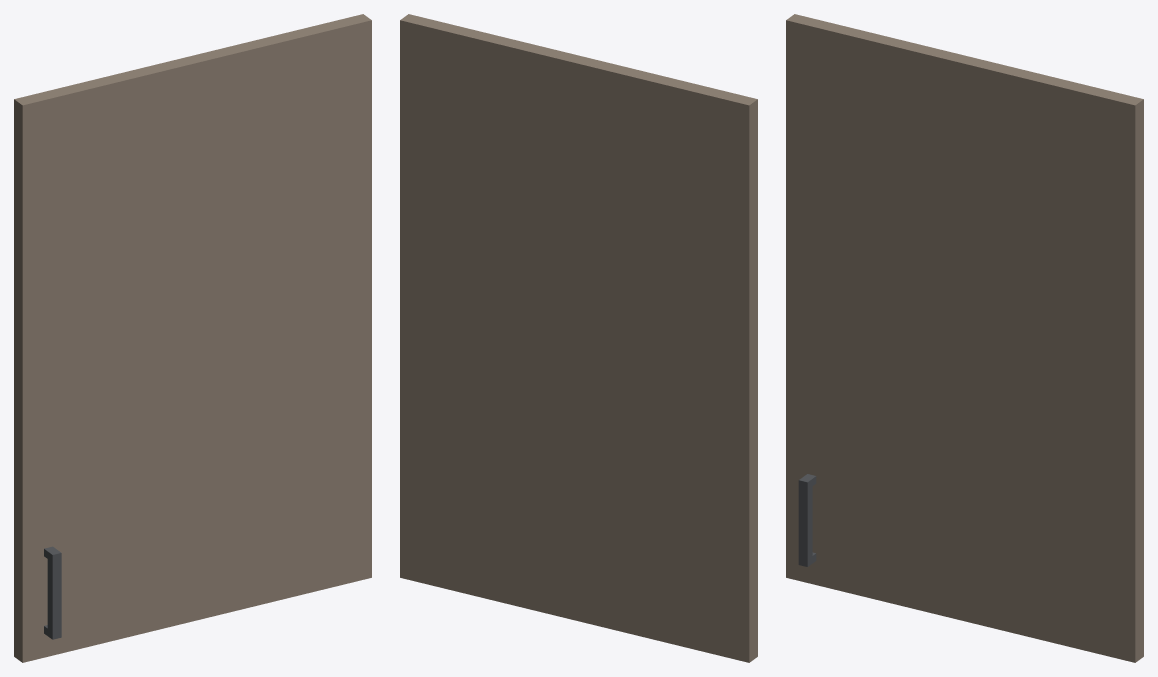
Rendered from Door1_C5_11.fbx.
The picture shows the model from 3 angles, left to right: view 1: azimuth 30°, elevation 25°; view 2: azimuth 150°, elevation 25°; view 3: azimuth 330°, elevation 25°; orthographic projection.
Parts seen in each view (by area): view 1: Door1_C5_11; view 2: Door1_C5_11; view 3: Door1_C5_11.
Boxes of the visible parts, box(x1,y1,x2,y2) form: Door1_C5_11: box(14, 14, 371, 662); Door1_C5_11: box(400, 14, 757, 662); Door1_C5_11: box(786, 14, 1143, 662).
Size of the model in its own units: 59 by 90 by 5.03.
